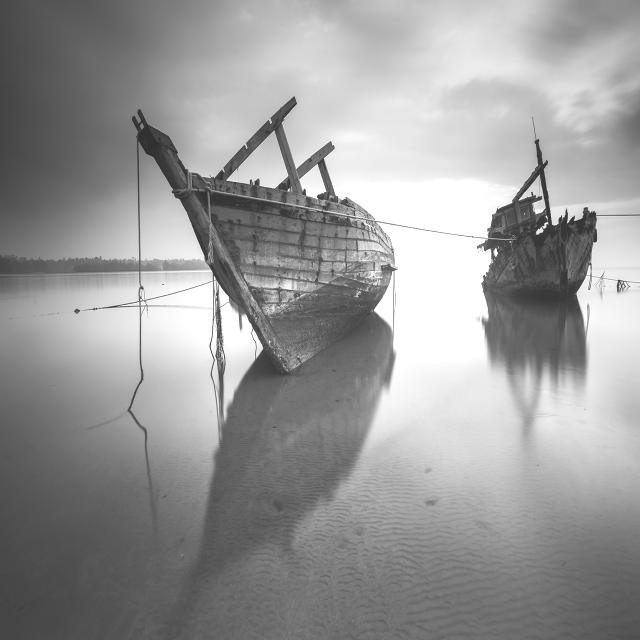ship: (127, 94, 400, 378), (471, 131, 600, 310)
